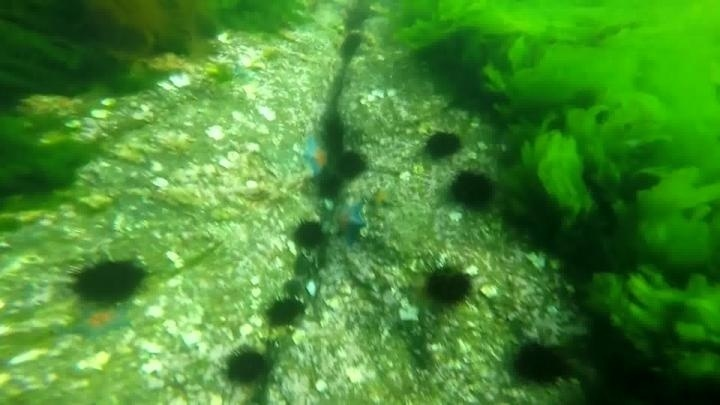echinus: (68, 254, 148, 307), (509, 339, 572, 387), (422, 264, 474, 308), (222, 345, 272, 388), (448, 169, 496, 213), (263, 294, 307, 330), (422, 129, 464, 162), (290, 217, 328, 252), (319, 113, 349, 155), (334, 149, 369, 181), (314, 170, 346, 201)
starfish: (68, 305, 133, 343), (329, 197, 369, 245), (297, 131, 333, 181), (369, 184, 398, 210)
